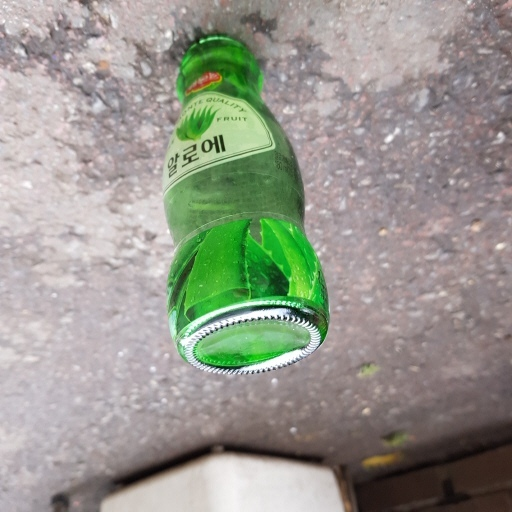Glass_4: (156, 26, 336, 383)
